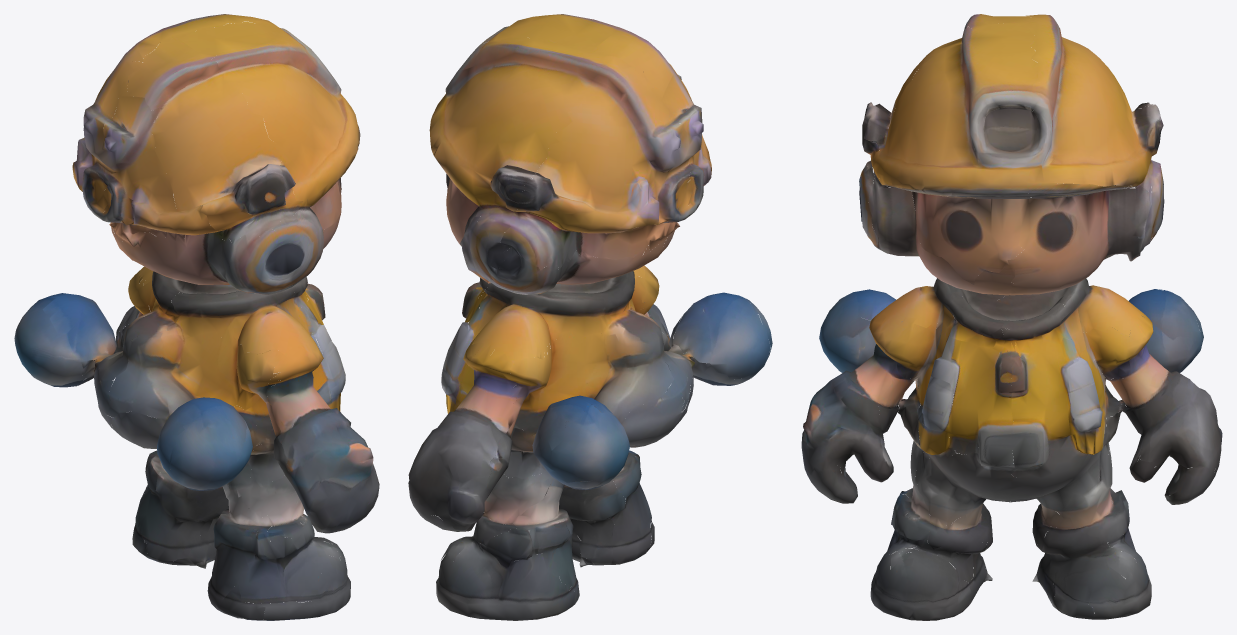
The model's file is shuttle_bay_escape_zone_01.glb.
The picture shows the model from 3 angles, left to right: view 1: azimuth 30°, elevation 25°; view 2: azimuth 150°, elevation 25°; view 3: azimuth 270°, elevation 25°; orthographic projection.
Visible parts, largest first — view 1: tripo_node_1668d4d8-e373-49d9-af4b-1157f751592b; view 2: tripo_node_1668d4d8-e373-49d9-af4b-1157f751592b; view 3: tripo_node_1668d4d8-e373-49d9-af4b-1157f751592b.
Boxes of the visible parts, x1,y1,x2,y2 form: tripo_node_1668d4d8-e373-49d9-af4b-1157f751592b: (14, 14, 379, 620); tripo_node_1668d4d8-e373-49d9-af4b-1157f751592b: (408, 14, 772, 620); tripo_node_1668d4d8-e373-49d9-af4b-1157f751592b: (801, 14, 1222, 620).
Bounding box in the file's own units: 0.4724 × 0.9969 × 0.6976.
1 material, 1 textured.
